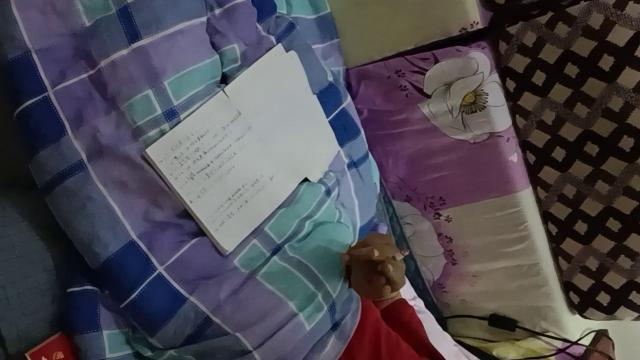Smoking: (378, 249, 409, 271)
